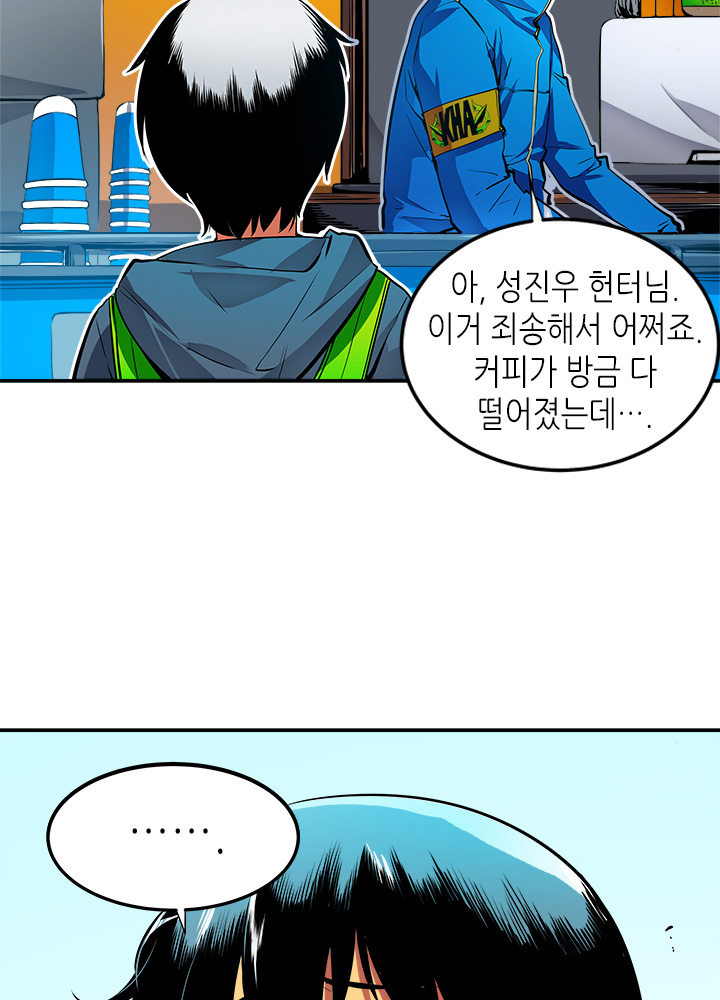dialog box: (361, 169, 720, 493), (14, 741, 312, 945)
text: (418, 256, 713, 449), (99, 795, 242, 876)
